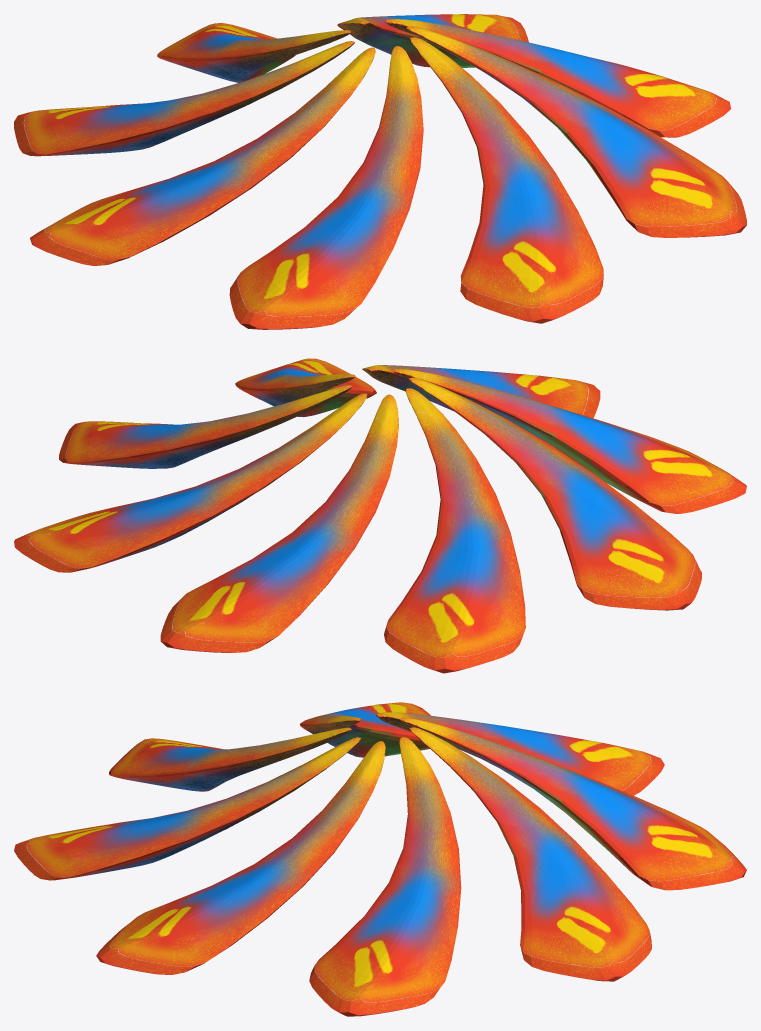
File: FormWrightPad-20260909-181947.glb
3 views of the same model, one above another, from view 1: azimuth 30°, elevation 25°; view 2: azimuth 150°, elevation 25°; view 3: azimuth 270°, elevation 25° (orthographic). The views are drawn at different scales.
Visible parts, largest first — view 1: FormWright; view 2: FormWright; view 3: FormWright.
Part boxes in pixels (x1,y1,x2,y2): FormWright: (14,14,746,329); FormWright: (14,358,746,673); FormWright: (14,702,746,1016).
Bounding box in the file's own units: 1.56 × 0.3223 × 1.56.
1 material, 1 textured.
